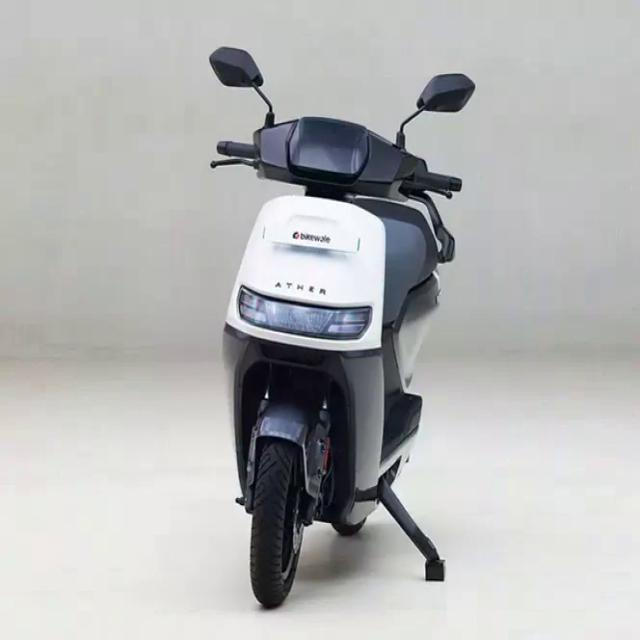objects: (190, 39, 467, 614)
